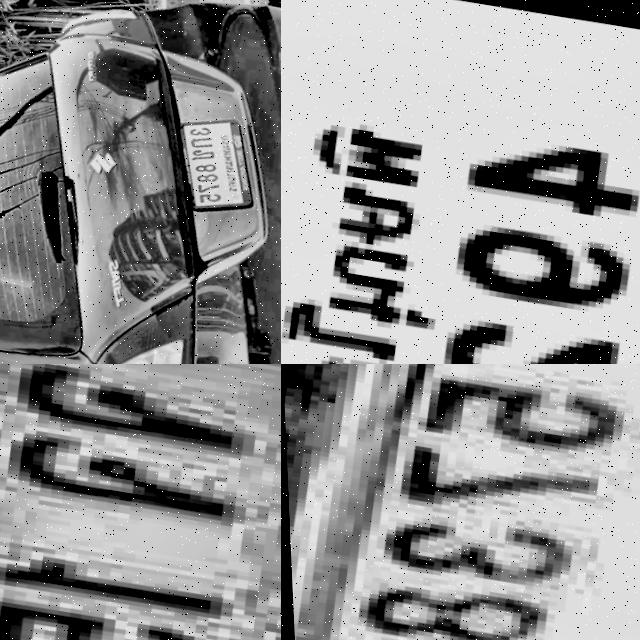license-plate: (281, 0, 640, 364), (281, 364, 640, 640), (0, 364, 281, 640), (153, 107, 267, 224)
